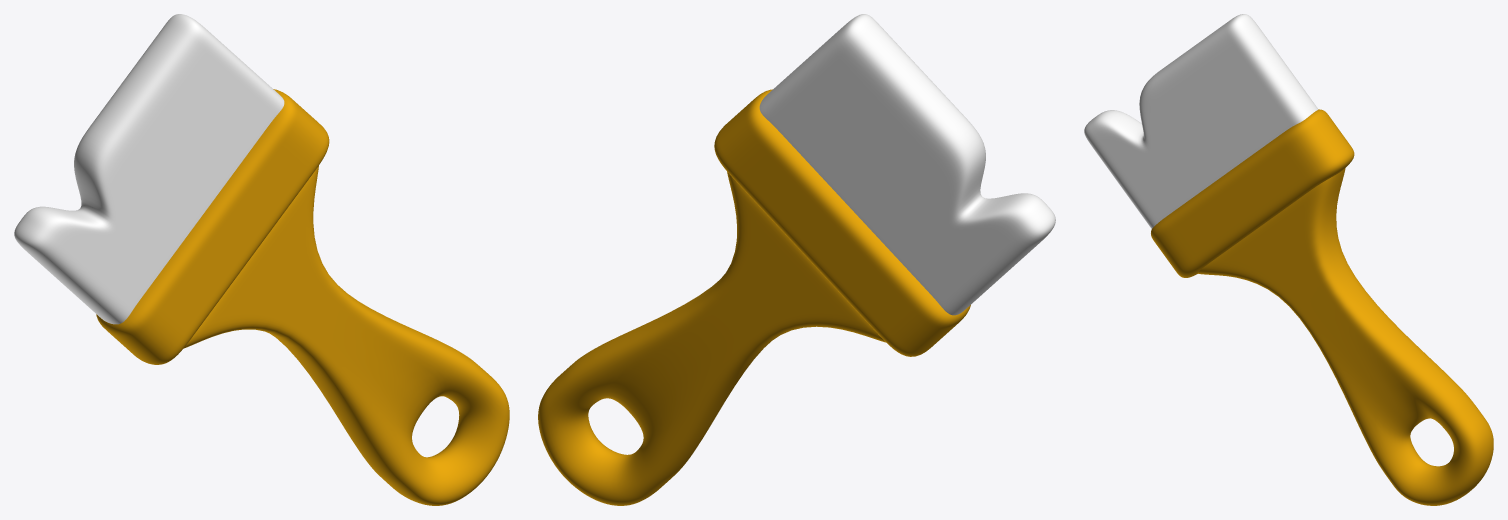
3 renders of one model, left to right at view 1: azimuth 30°, elevation 25°; view 2: azimuth 150°, elevation 25°; view 3: azimuth 330°, elevation 25°, orthographic. The views are drawn at different scales.
Visible parts, largest first — view 1: Plane.005; view 2: Plane.005; view 3: Plane.005.
Part boxes in pixels (<box>): Plane.005: <box>14,14,509,505</box>; Plane.005: <box>538,14,1055,505</box>; Plane.005: <box>1084,14,1493,505</box>.
Size of the model in its own units: 1.84 by 1.93 by 0.3163.
